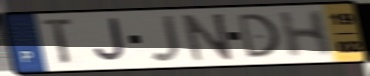D: (235, 12, 282, 60)
H: (276, 8, 334, 60)
J: (148, 13, 183, 64), (92, 17, 129, 64)
N: (180, 11, 236, 64)
T: (41, 16, 76, 67)
